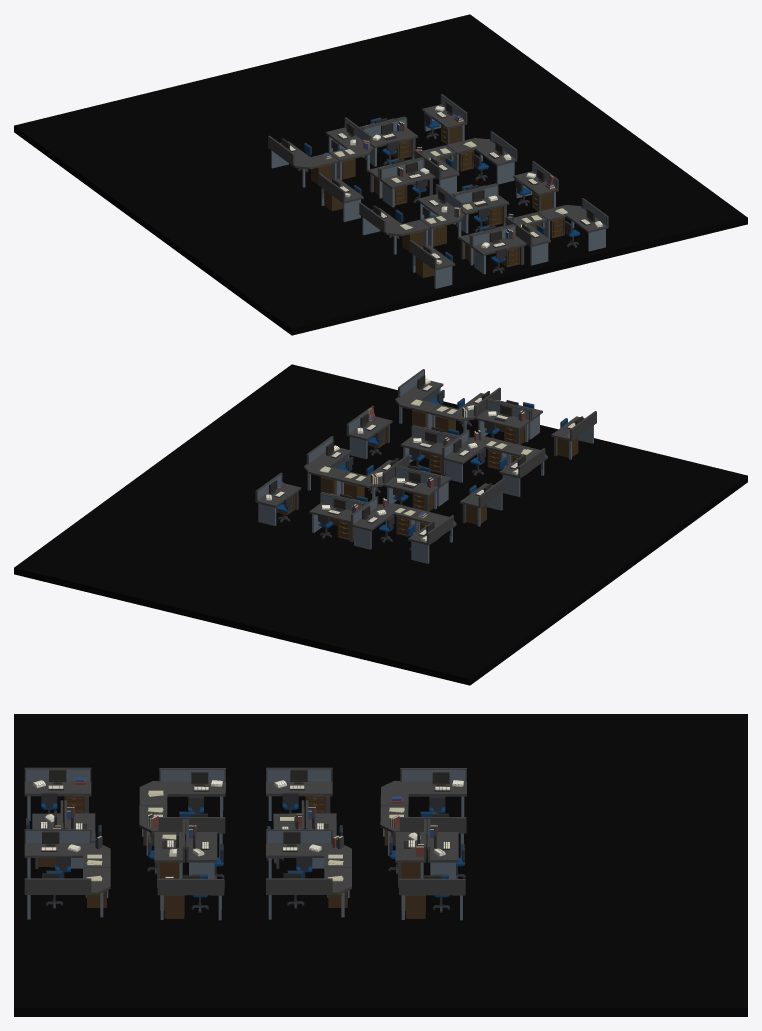
The model's file is office_1.fbx.
The picture shows the model from 3 angles, top to bottom: view 1: azimuth 30°, elevation 25°; view 2: azimuth 150°, elevation 25°; view 3: azimuth 270°, elevation 25°; orthographic projection. The views are drawn at different scales.
Parts seen in each view (by area): view 1: Boden, desk.008, desk.011, desk.004, desk.015, desk.007, desk.012, desk.018, desk.017, desk.002, desk.019, desk.001 (+5 smaller); view 2: Boden, desk.007, desk.012, desk.004, desk.011, desk.008, desk.015, desk.009, desk.010, desk.003, desk.016, desk (+5 smaller); view 3: Boden, desk.004, desk.015, desk.018, desk.001, desk.011, desk.008, desk, desk.019, desk.007, desk.012, desk.010 (+7 smaller).
Boxes of the visible parts, x1,y1,x2,y2 form: Boden: (14, 14, 747, 335); desk.008: (446, 131, 517, 184); desk.011: (537, 198, 608, 251); desk.004: (268, 135, 338, 187); desk.015: (359, 202, 430, 254); desk.007: (325, 117, 373, 180); desk.012: (417, 184, 464, 246); desk.018: (503, 212, 550, 265); desk.017: (471, 225, 526, 274); desk.002: (380, 158, 435, 207); desk.019: (409, 240, 455, 288); desk.001: (411, 145, 459, 193); Boden: (14, 364, 747, 685); desk.007: (351, 496, 422, 549); desk.012: (442, 429, 513, 482); desk.004: (408, 510, 456, 563); desk.011: (395, 369, 443, 428); desk.008: (304, 436, 351, 495); desk.015: (499, 443, 547, 496); desk.009: (255, 472, 301, 525); desk.010: (346, 406, 392, 459); desk.003: (384, 466, 439, 511); desk.016: (475, 399, 530, 444); desk: (460, 478, 505, 526); Boden: (14, 714, 747, 1016); desk.004: (380, 768, 466, 816); desk.015: (139, 768, 225, 816); desk.018: (24, 829, 110, 878); desk.001: (266, 829, 351, 878); desk.011: (24, 867, 110, 919); desk.008: (266, 867, 351, 919); desk: (266, 767, 332, 820); desk.019: (24, 767, 91, 820); desk.007: (380, 806, 466, 857); desk.012: (139, 806, 225, 857); desk.010: (157, 878, 224, 920).
Bounding box in the file's own units: 4487 × 365 × 4735.
